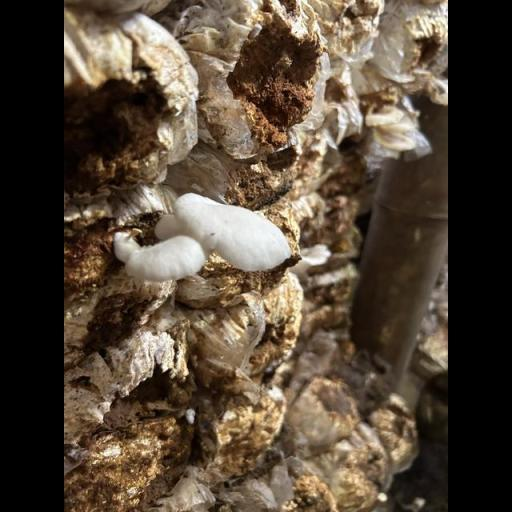White Oyster Mushroom: (114, 191, 291, 283)
